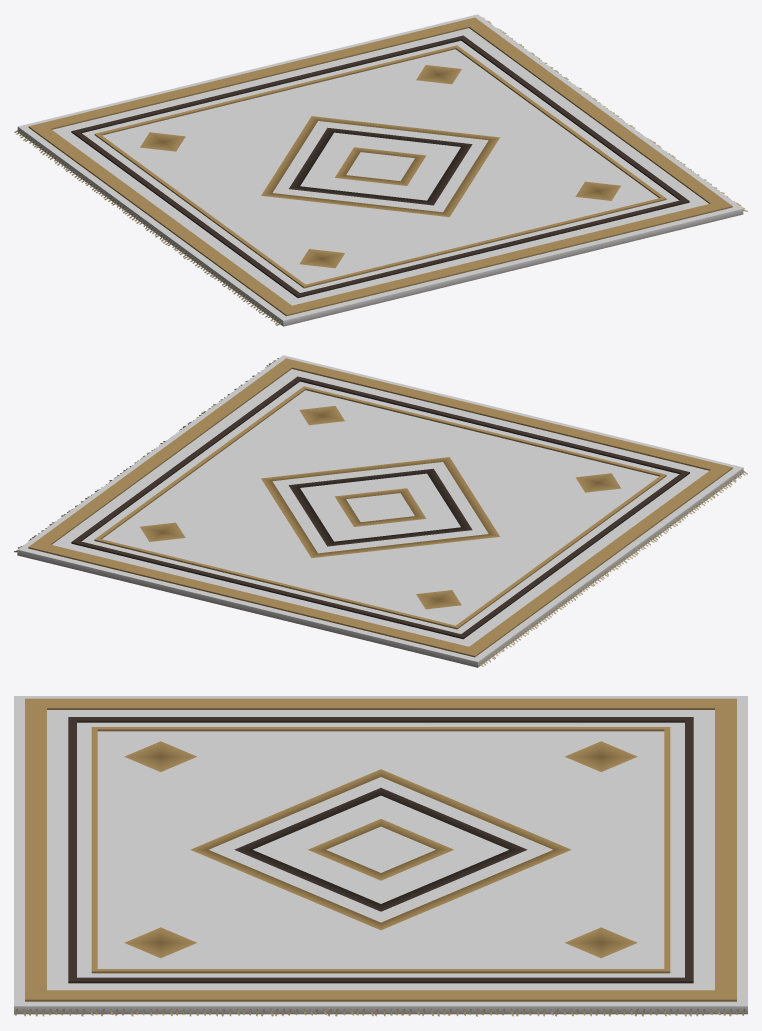
File: rug.glb
The picture shows the model from 3 angles, top to bottom: view 1: azimuth 30°, elevation 25°; view 2: azimuth 150°, elevation 25°; view 3: azimuth 270°, elevation 25°; orthographic projection. The views are drawn at different scales.
Parts seen in each view (by area): view 1: rug, rug_trim; view 2: rug, rug_trim; view 3: rug, rug_trim.
Part boxes in pixels (<box>): rug: <box>17,14,743,326</box>; rug_trim: <box>14,17,747,325</box>; rug: <box>17,355,743,667</box>; rug_trim: <box>14,358,747,666</box>; rug: <box>14,696,747,1014</box>; rug_trim: <box>14,698,745,1016</box>.
Bounding box in the file's own units: 1.03 × 0.015 × 1.
